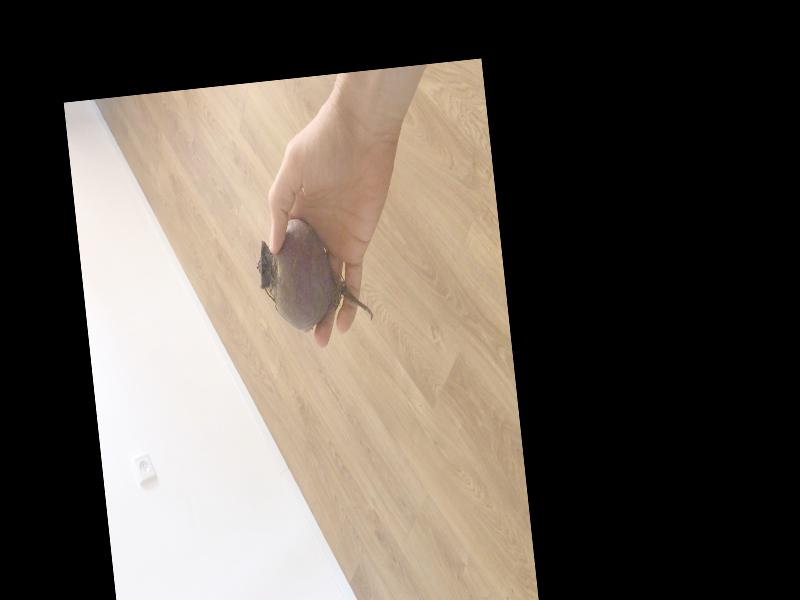Beet: (255, 212, 374, 336)
